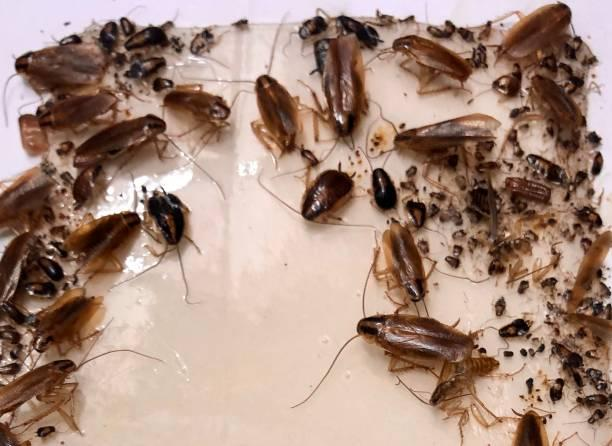cockroach: (0, 1, 611, 445), (276, 272, 464, 411), (0, 347, 195, 446), (63, 92, 234, 202), (123, 174, 214, 323), (212, 40, 310, 174), (360, 97, 506, 179), (137, 70, 271, 155), (343, 215, 445, 316), (470, 0, 611, 73), (511, 68, 599, 171), (276, 152, 365, 251), (386, 24, 490, 108), (301, 31, 376, 143), (55, 207, 150, 281), (9, 294, 110, 355), (0, 38, 112, 91), (28, 79, 122, 138), (0, 163, 62, 233), (496, 395, 573, 446)
